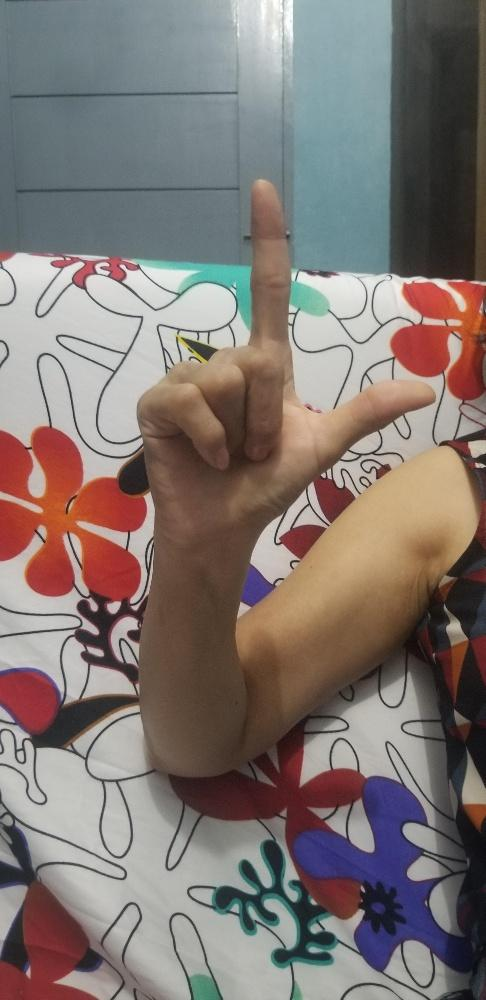l: (133, 177, 436, 547)
